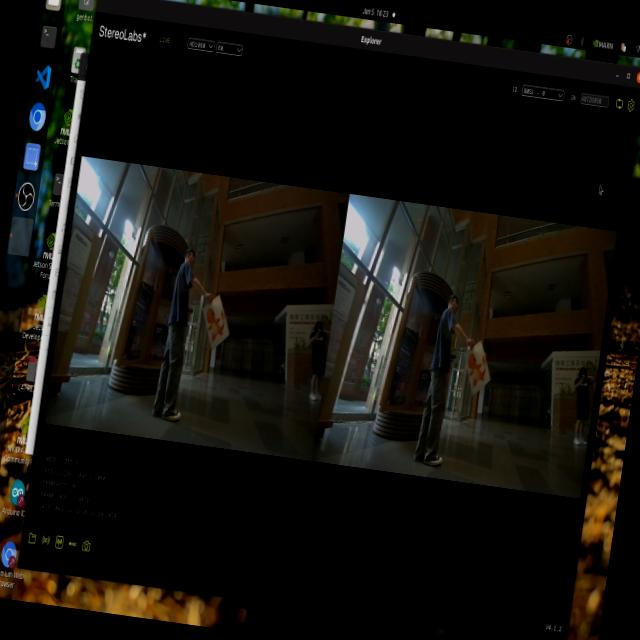red: (460, 343, 494, 400), (197, 299, 233, 351)
